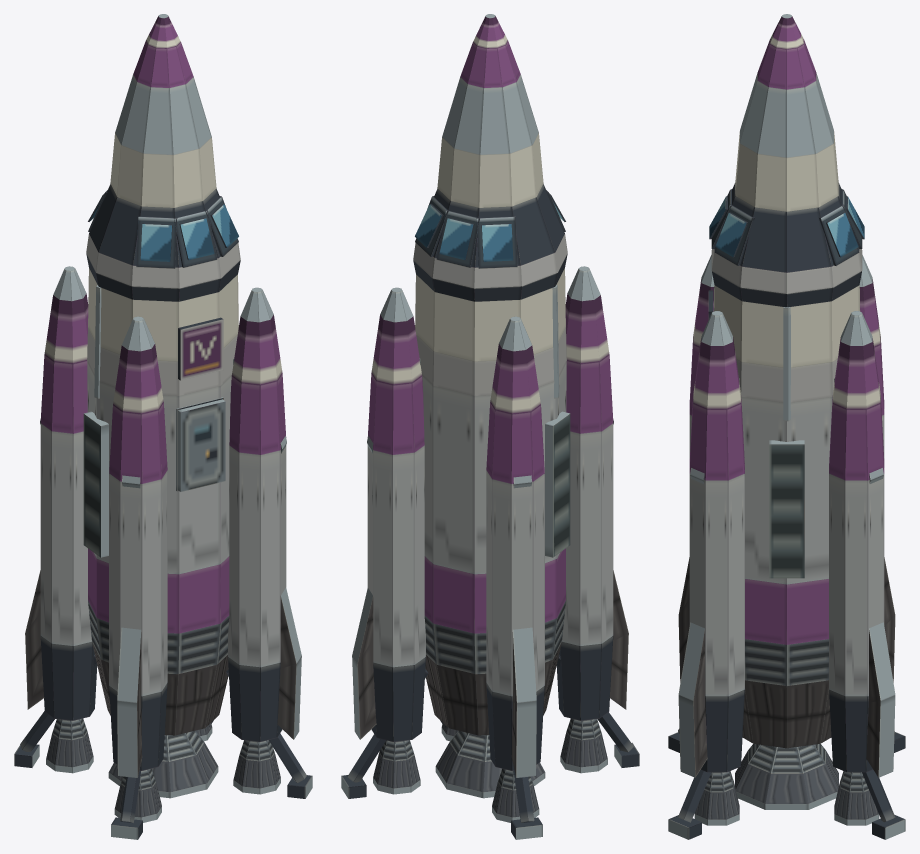
Rendered from tier_4_rocket.obj.
3 views of the same model, side by side, from view 1: azimuth 30°, elevation 25°; view 2: azimuth 150°, elevation 25°; view 3: azimuth 270°, elevation 25° (orthographic).
Visible parts, largest first — view 1: airframe, access_hatch; view 2: airframe; view 3: airframe.
Part boxes in pixels (x1,y1,x2,y2): airframe: (14, 14, 312, 839); access_hatch: (177, 399, 225, 491); airframe: (341, 14, 639, 839); airframe: (668, 14, 905, 839).
Bounding box in the file's own units: 1.56 × 5.6 × 1.56.
